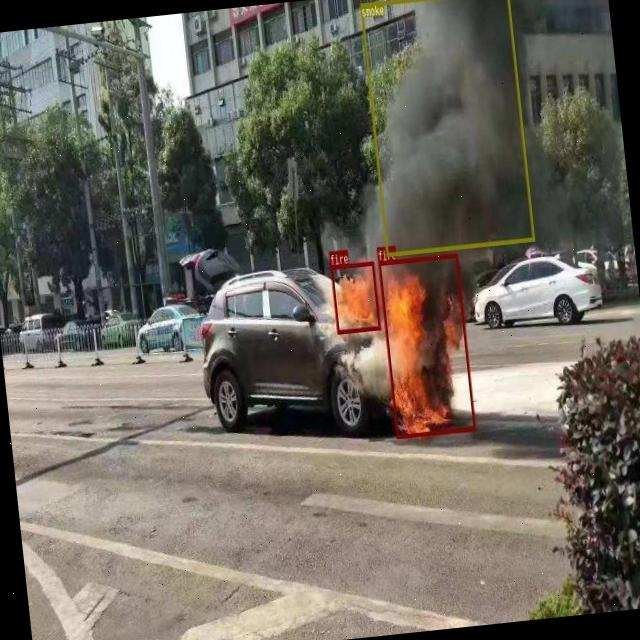fire: (377, 252, 475, 438), (330, 260, 380, 333)
smoke: (360, 0, 535, 255)
